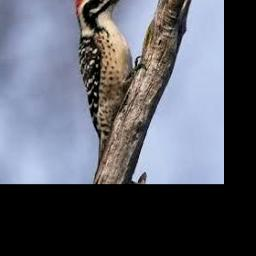Woodpecker: (73, 0, 146, 163)
